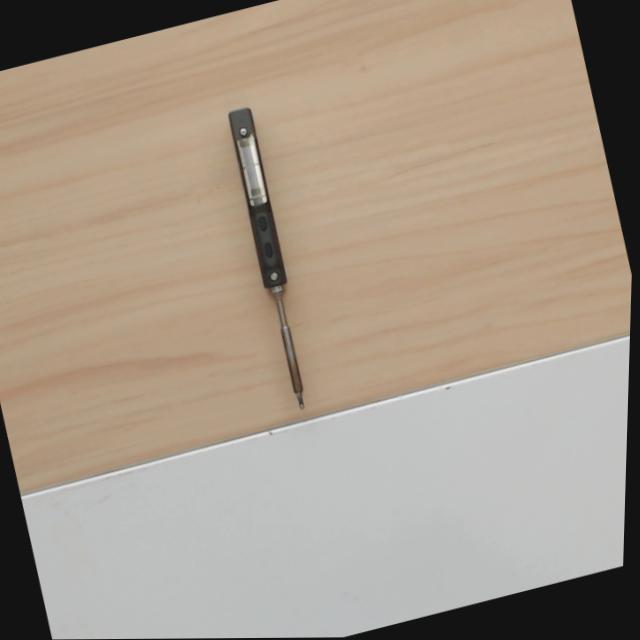Soldering-Iron: (222, 102, 313, 413)
